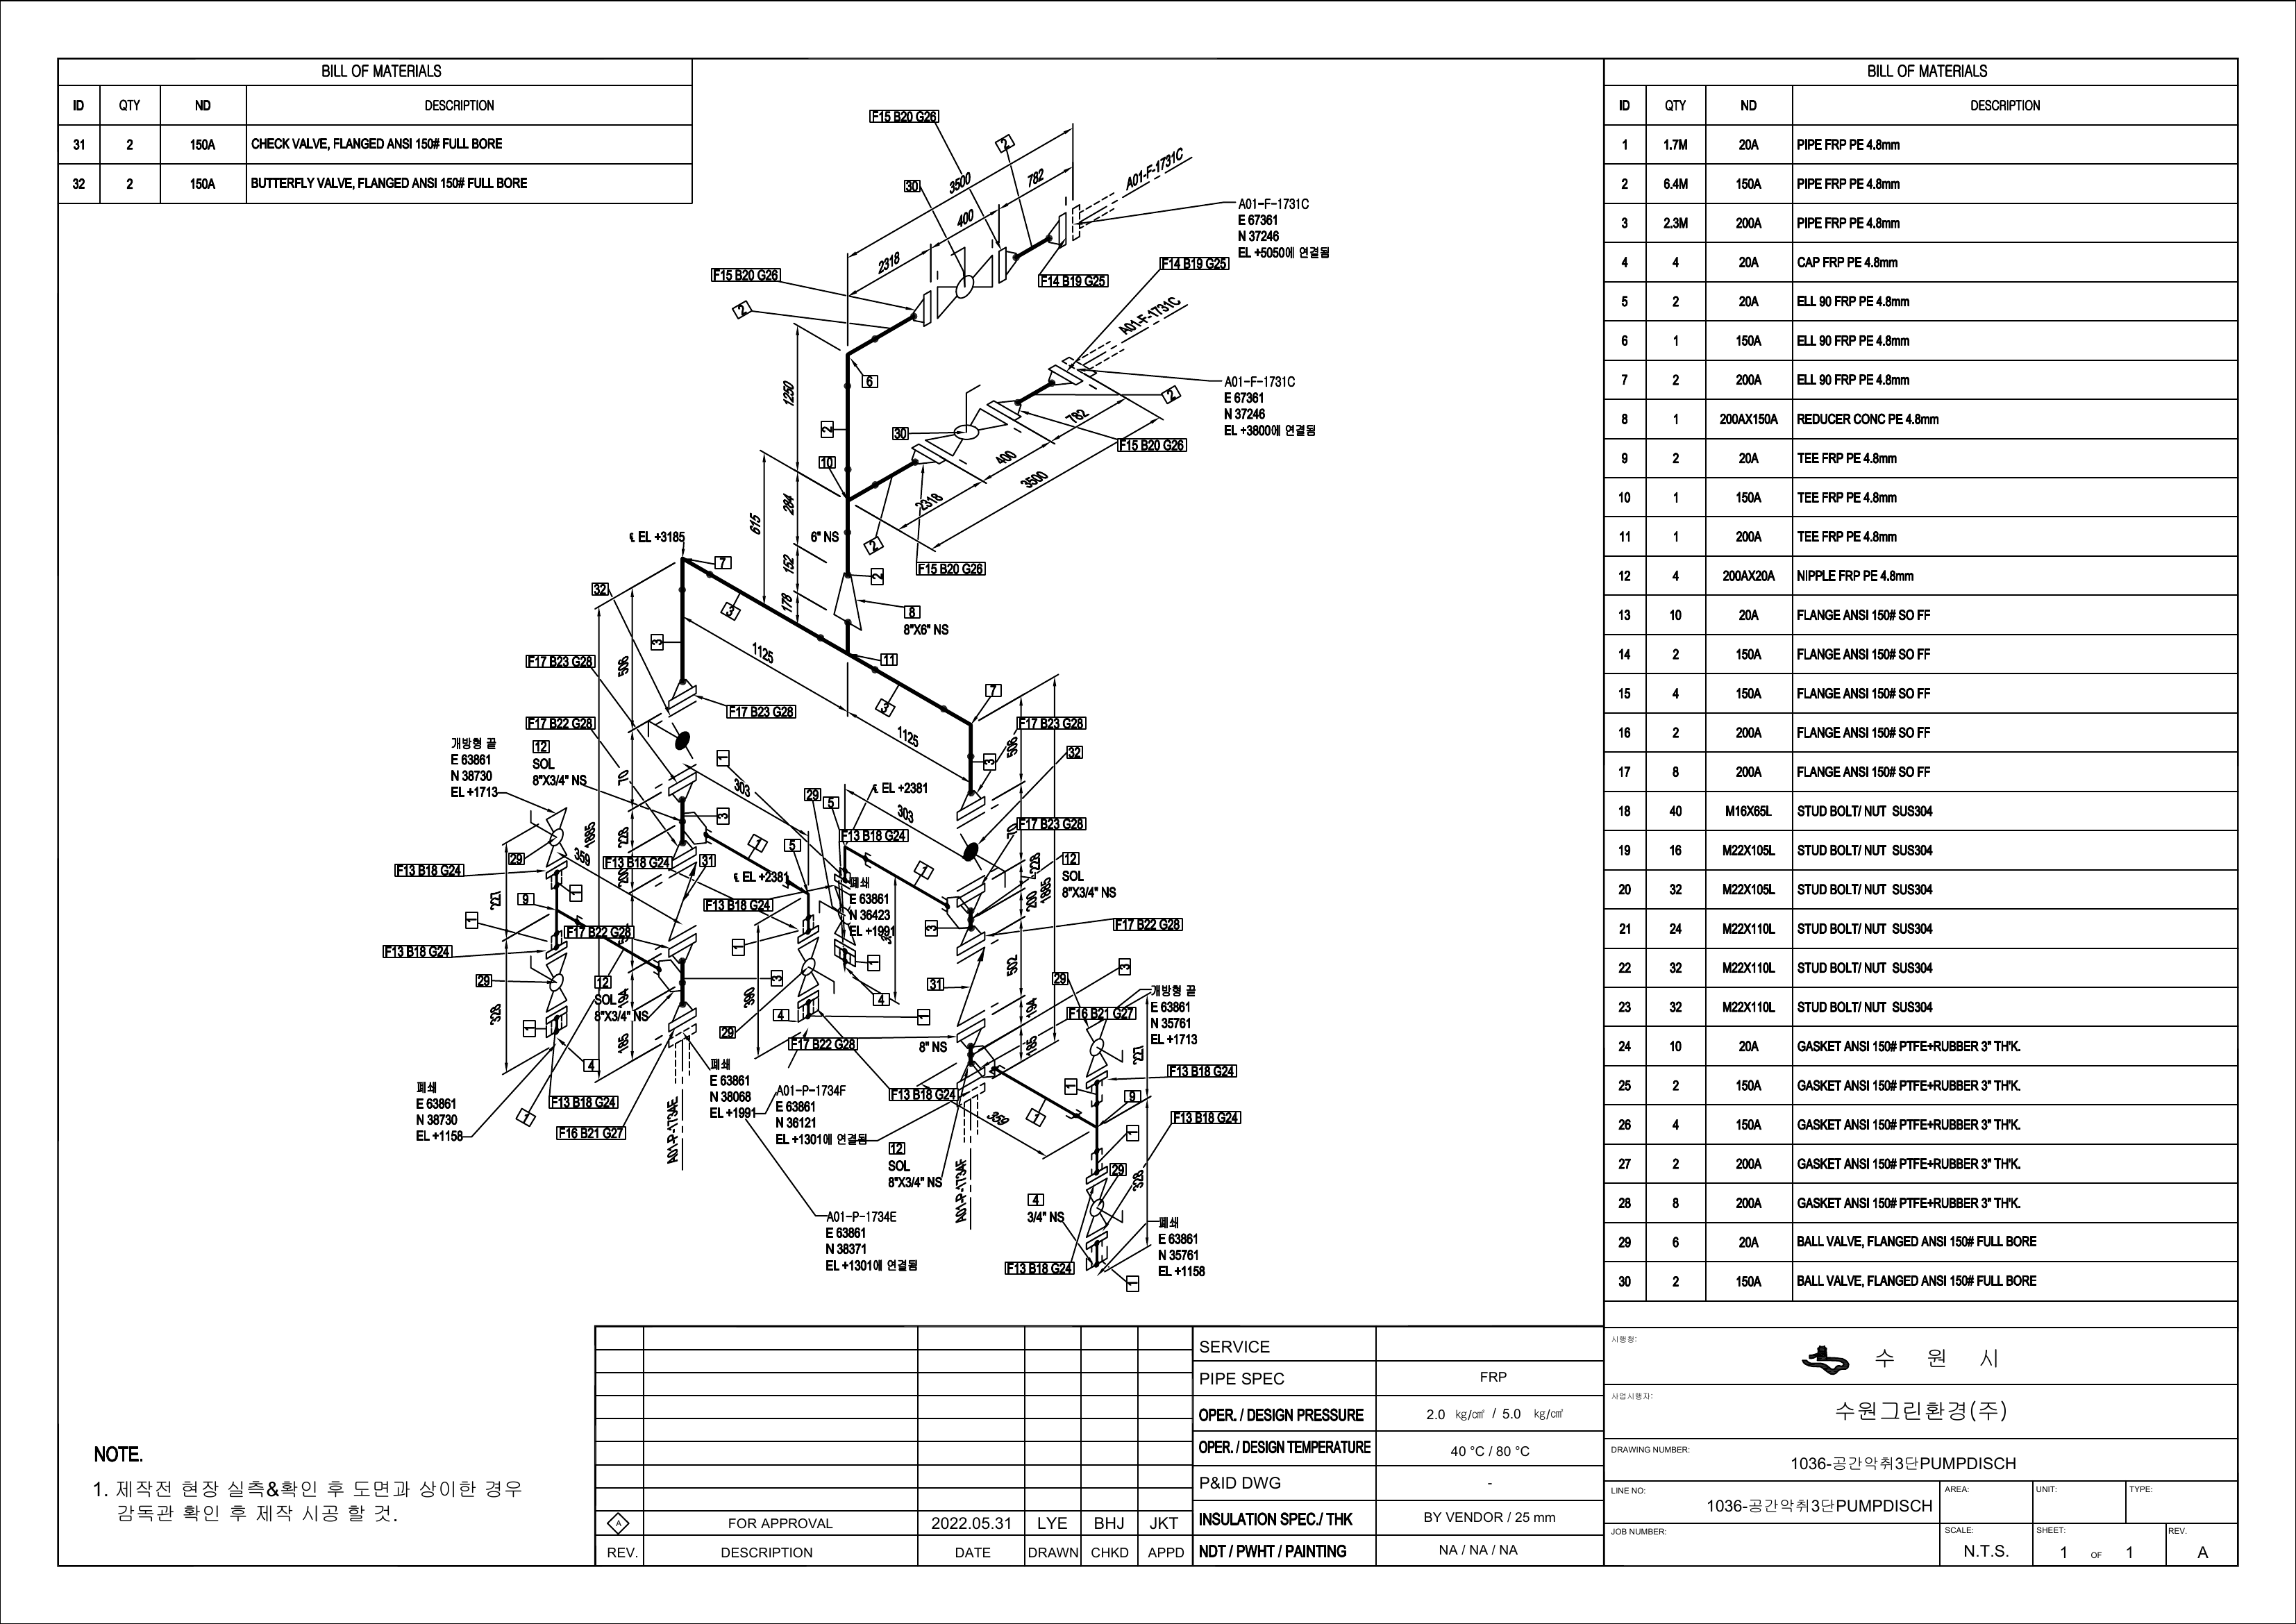table: (1597, 49, 2243, 1308)
